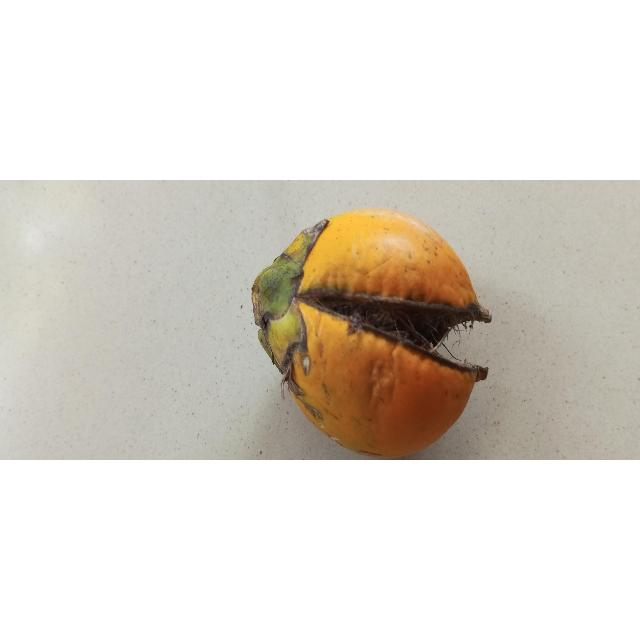damaged: (251, 209, 492, 459)
